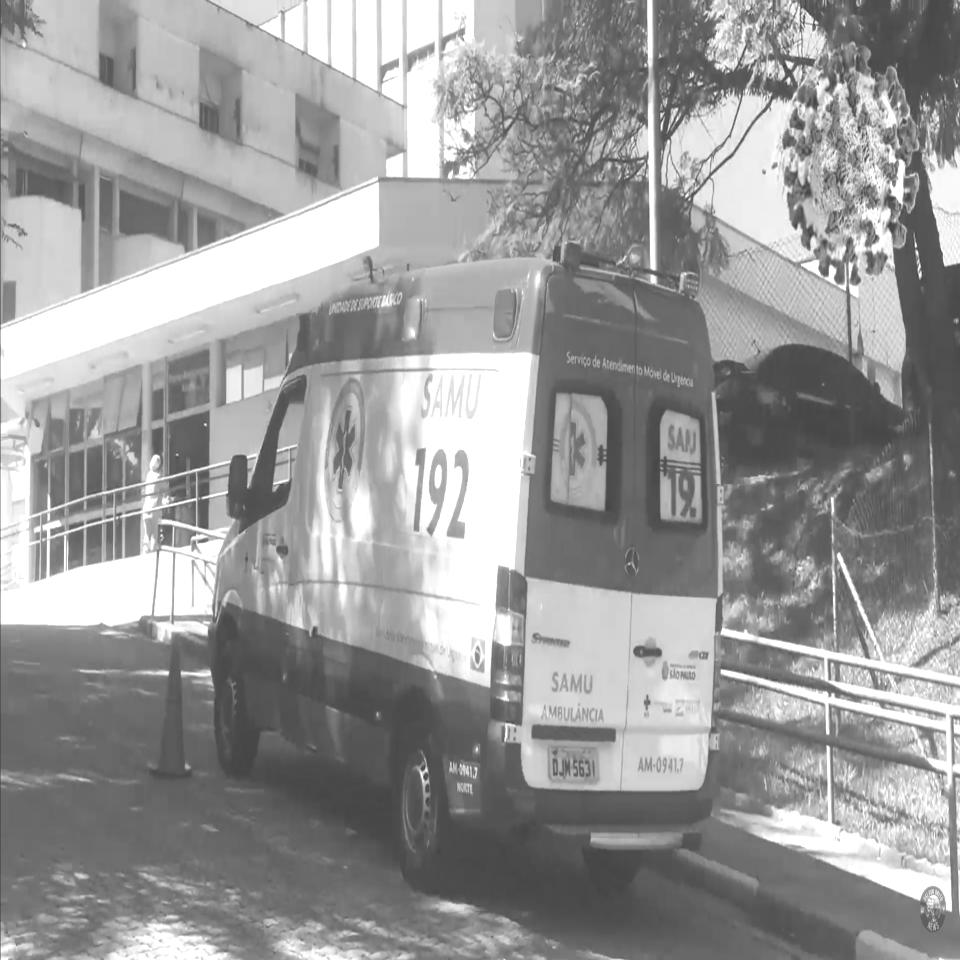ambulancia: (209, 238, 726, 879)
